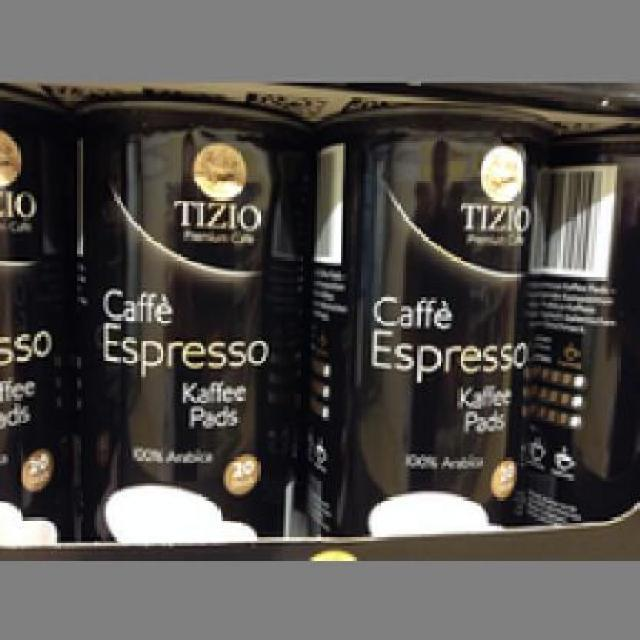Coffee: (63, 91, 303, 540), (300, 102, 537, 528)
